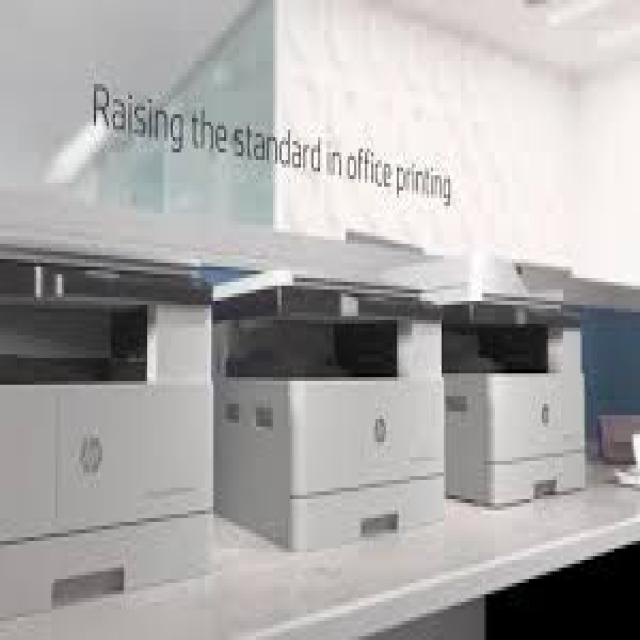printer: (0, 232, 211, 618), (214, 251, 446, 552), (445, 297, 586, 510)
